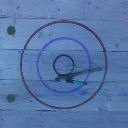Axe Tip: (59, 76, 72, 78)
